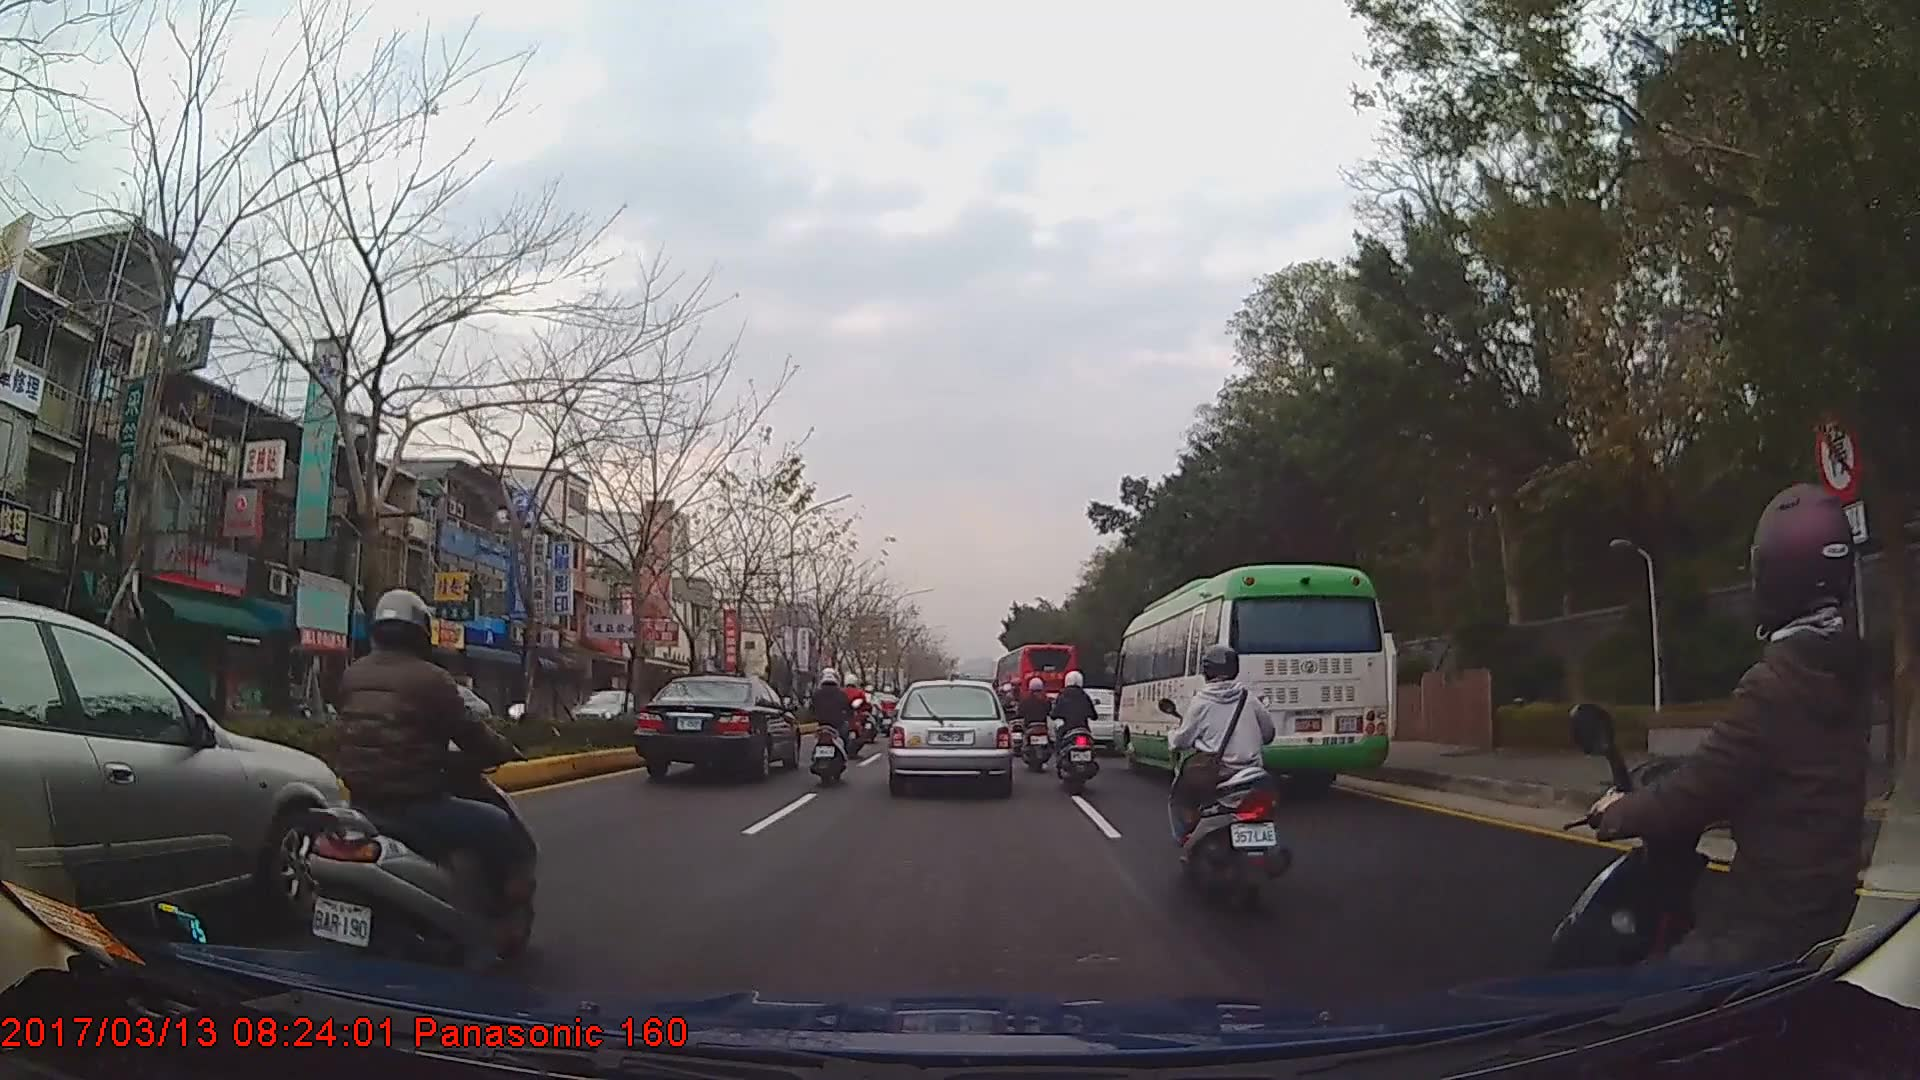rider: (1550, 485, 1920, 1080), (305, 586, 539, 995), (1162, 645, 1288, 910), (1053, 672, 1102, 793), (810, 669, 857, 789), (1019, 676, 1057, 774), (838, 671, 872, 755), (1005, 676, 1028, 756), (859, 689, 885, 744), (879, 685, 900, 726)
vehicle: (0, 602, 360, 964), (1113, 565, 1391, 796), (627, 672, 801, 782), (888, 679, 1011, 795), (996, 641, 1079, 736), (562, 688, 642, 735)
